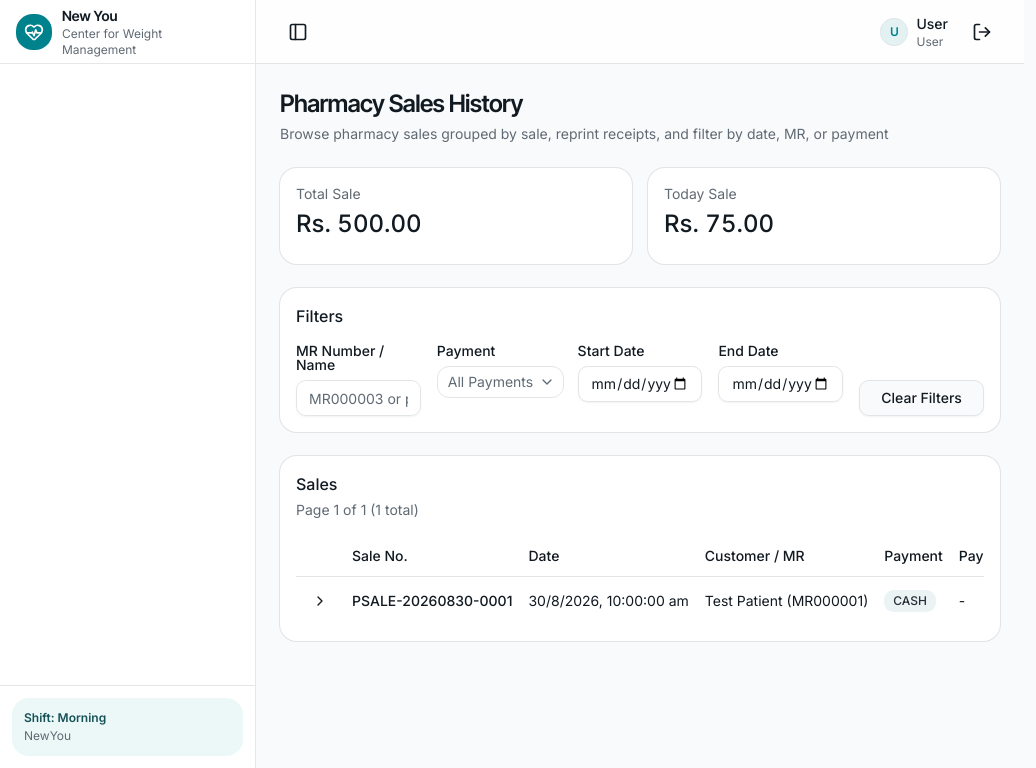
Test: PharmacySalesHistoryPage › expands sale rows to show receipt line items
Check: the text "PSALE-20260830-0001" is shown, box top-left (344, 576), bottom-right (520, 624)
Click the button named "Expand sale" at (320, 600), box top-left (304, 584), bottom-right (336, 616)
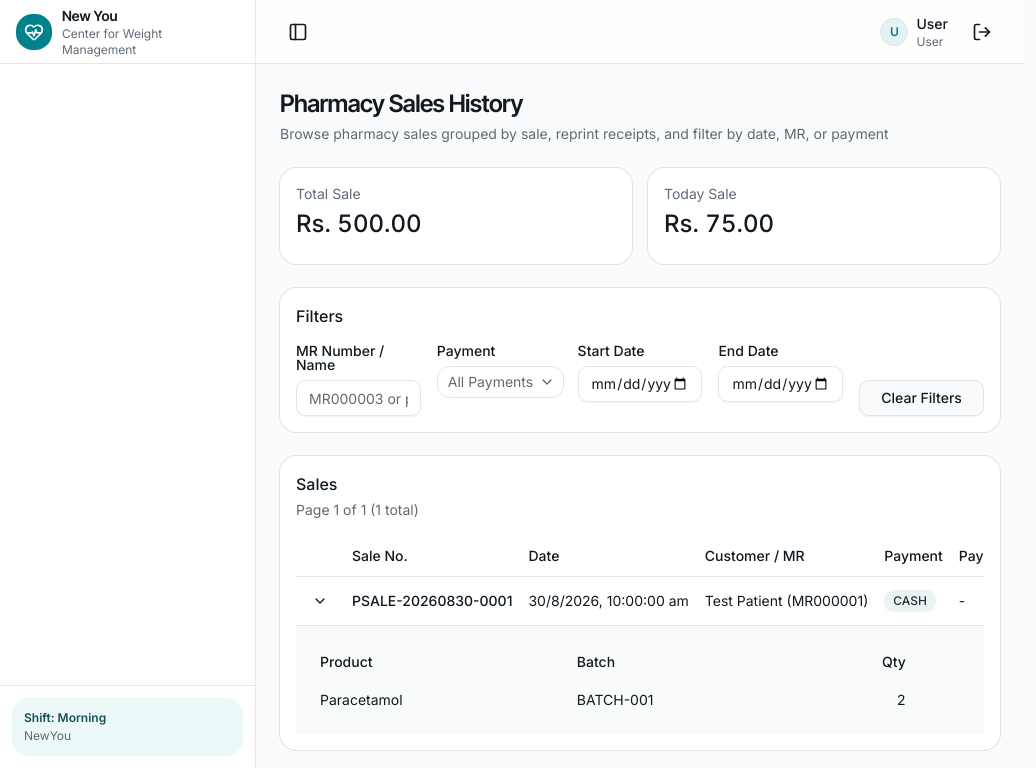
Check: the text "Paracetamol" is shown, box top-left (312, 682), bottom-right (569, 718)
Check: the text "BATCH-001" is shown, box top-left (569, 682), bottom-right (810, 718)
